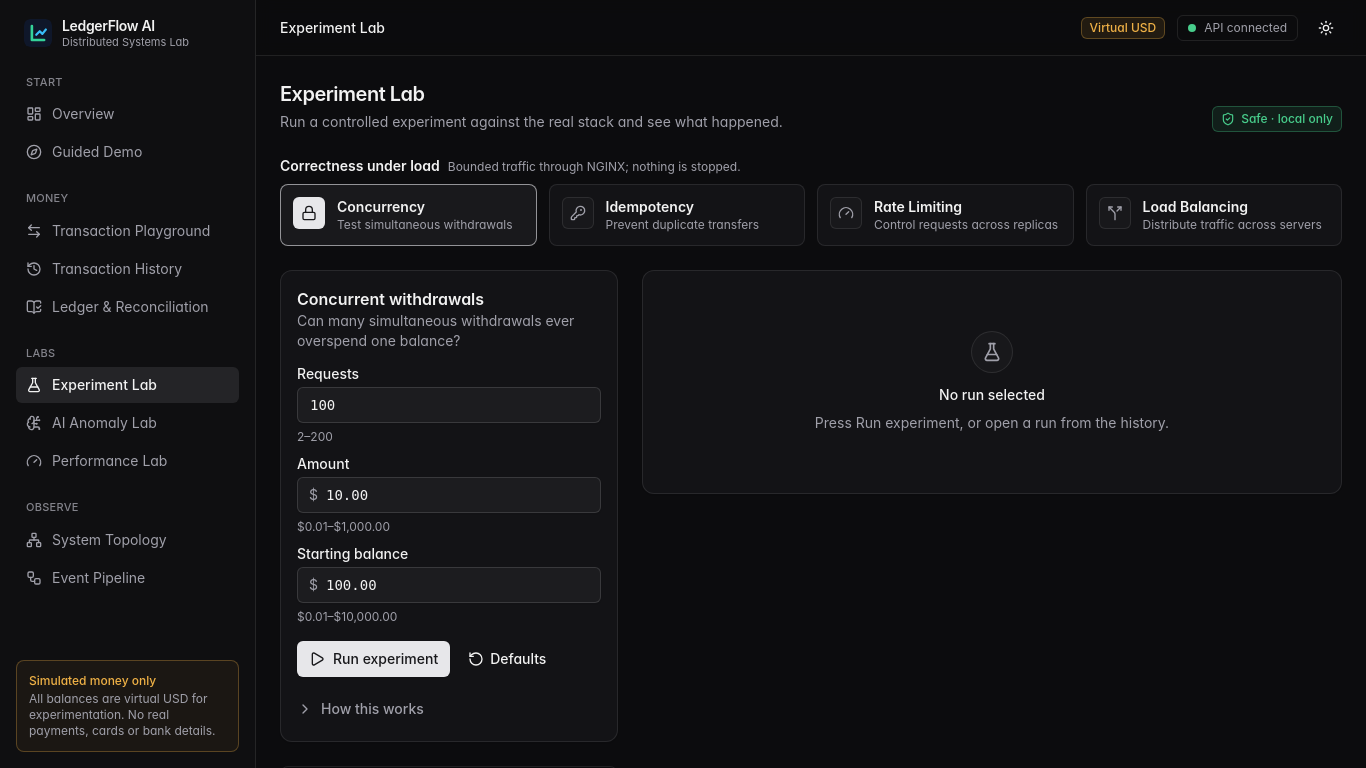
experiment selection and configuration › expands 'How this works' with expectations, steps and parameter explanations
This screenshot has width=1366, height=768.
Click the button "How this works": (372, 708) x1=297 y1=693 x2=601 y2=725
(page scrolled)
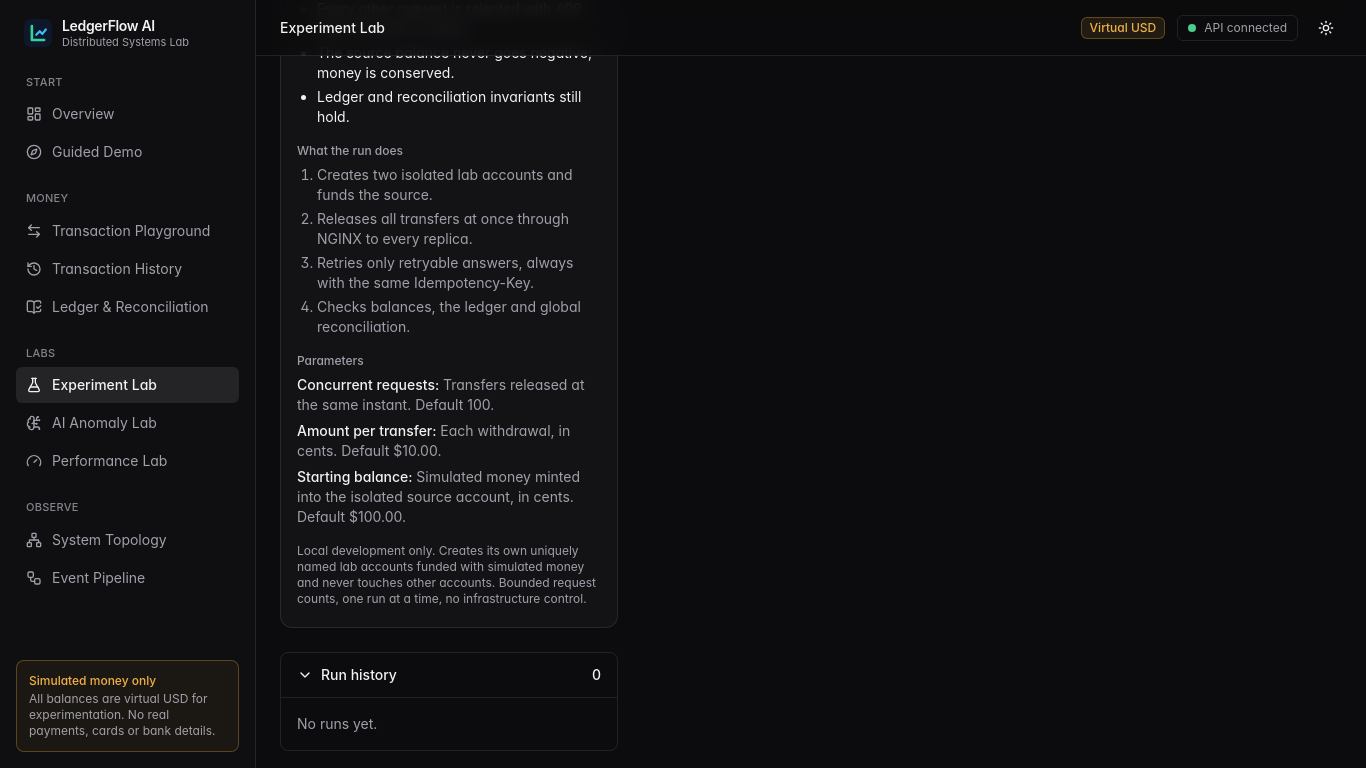
Expected: the text "Concurrent requests:" is shown, x1=297 y1=376 x2=443 y2=393
